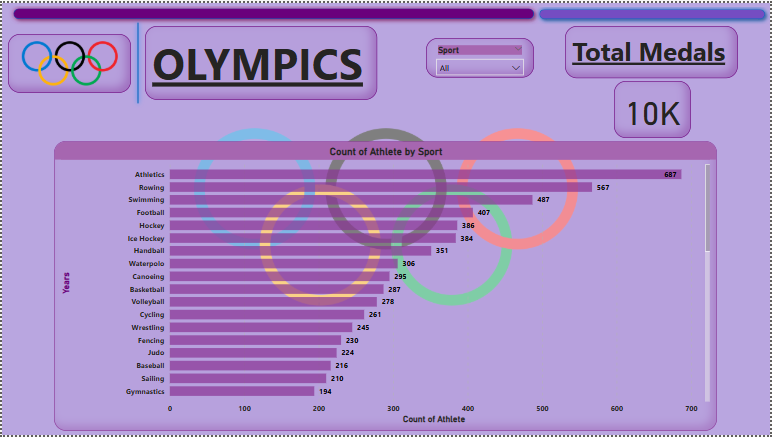

The dashboard page shown, as its layout file describes it:
{"tool":"powerbi","page":{"name":"Page 5","canvas":[1280,720],"ordinal":4},"visuals":[{"type":"shape","box":[886,2,394,34],"z":0},{"type":"shape","box":[10,0,886,36],"z":1000},{"type":"image","box":[10,51.7,205,98.3],"z":2000},{"type":"shape","box":[211.7,25,30,150],"z":3000},{"type":"textbox","box":[238.3,38.3,386.7,123.3],"z":4000},{"type":"textbox","box":[938.3,38.3,288.3,86.7],"z":5000},{"type":"card","fields":{"Values":["Sum(OlympicAthletes.Total Medals)"]},"box":[1020,130,128.3,95],"z":6000},{"type":"clusteredBarChart","fields":{"Category":["OlympicAthletes.Sport"],"Y":["CountNonNull(OlympicAthletes.Athlete)"]},"box":[86.7,230,1105,483.3],"z":7000},{"type":"slicer","fields":{"Values":["OlympicAthletes.Sport"]},"box":[706.3,58.7,179.9,66.3],"z":8000}]}

Visuals, with their boxes in screenshot pixels (x1, y1, x2, y2), scaled from the page's 1280x720 canvas onto the 772x437 screenshot:
shape: crop(534, 1, 771, 22)
shape: crop(6, 0, 540, 22)
image: crop(6, 31, 130, 91)
shape: crop(128, 15, 146, 106)
textbox: crop(144, 23, 377, 98)
textbox: crop(566, 23, 740, 76)
card - Sum(OlympicAthletes.Total Medals): crop(615, 79, 693, 137)
clusteredBarChart - OlympicAthletes.Sport x CountNonNull(OlympicAthletes.Athlete): crop(52, 140, 719, 433)
slicer - OlympicAthletes.Sport: crop(426, 36, 534, 76)
